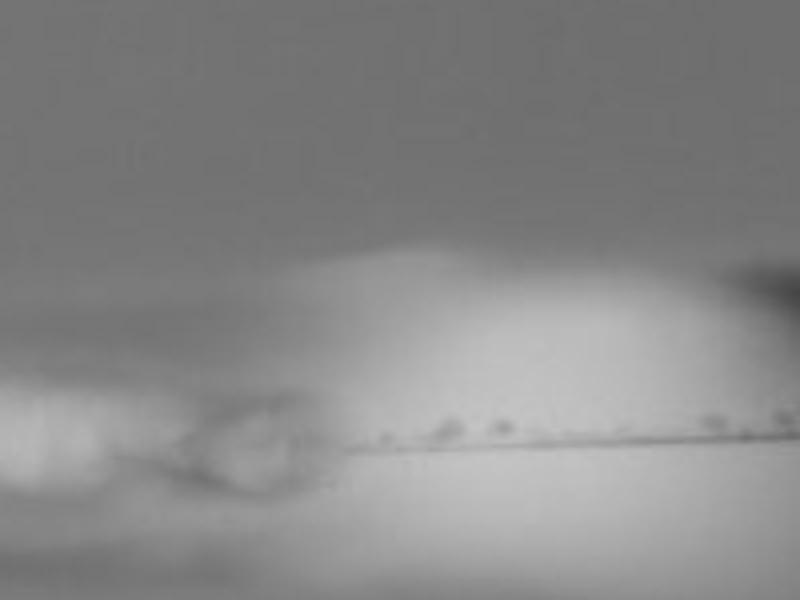defect: (427, 413, 464, 444), (699, 408, 728, 434), (772, 403, 798, 431), (487, 416, 515, 438), (377, 432, 397, 450)
